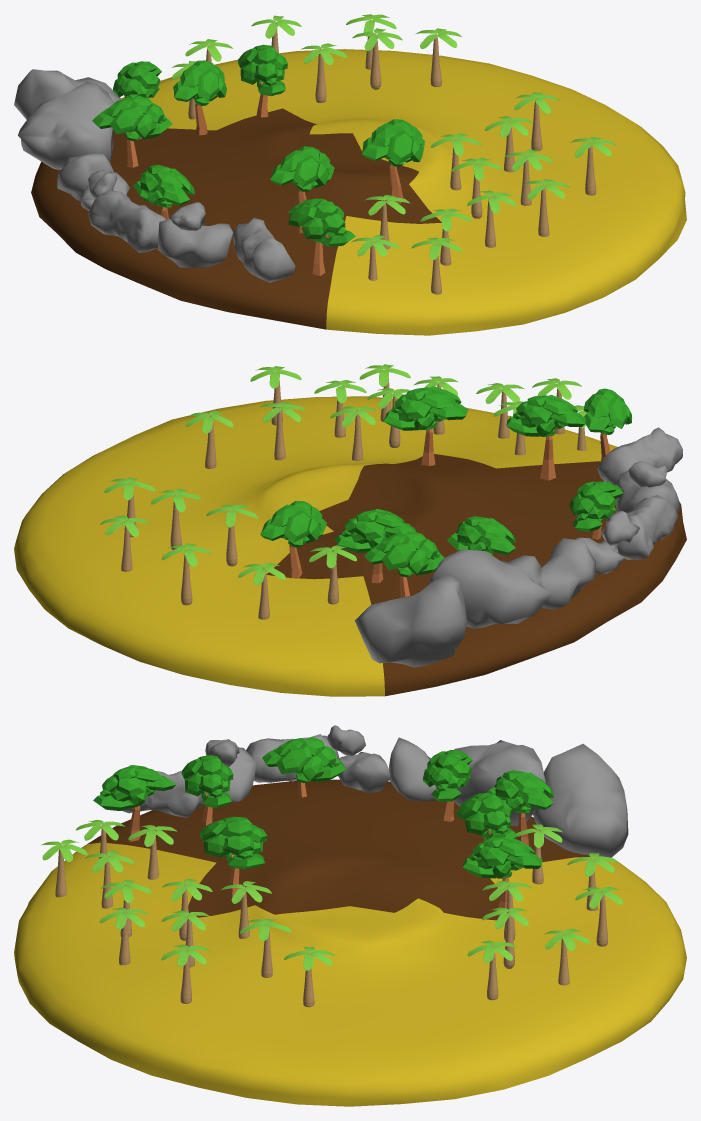
The model's file is IlhaFeiticeiro.fbx.
The picture shows the model from 3 angles, top to bottom: view 1: azimuth 30°, elevation 25°; view 2: azimuth 150°, elevation 25°; view 3: azimuth 270°, elevation 25°; orthographic projection. The views are drawn at different scales.
Visible parts, largest first — view 1: Continente, Pedra2, Icosphere, Pedra1, Icosphere.001, Sphere.007, Sphere.001, Sphere.000, Sphere.003, Sphere.006, Pedra1.002, Sphere.008 (+23 smaller); view 2: Continente, Pedra1.002, Pedra2, Sphere.001, Sphere.006, Pedra1.001, Sphere.002, Icosphere.001, Sphere.003, Icosphere, Sphere.008, Sphere.009 (+23 smaller); view 3: Continente, Pedra1.002, Pedra2, Sphere.001, Sphere.009, Sphere.000, Sphere.003, Sphere.006, Sphere.002, Sphere.007, Pedra1.001, Sphere.008 (+25 smaller).
Boxes of the visible parts, x1=… form: Continente: x1=31, y1=49, x2=686, y2=335; Pedra2: x1=18, y1=81, x2=113, y2=170; Icosphere: x1=88, y1=190, x2=165, y2=252; Pedra1: x1=157, y1=219, x2=232, y2=267; Icosphere.001: x1=232, y1=217, x2=295, y2=282; Sphere.007: x1=92, y1=96, x2=172, y2=167; Sphere.001: x1=361, y1=119, x2=424, y2=203; Sphere.000: x1=288, y1=198, x2=355, y2=275; Sphere.003: x1=238, y1=44, x2=287, y2=117; Sphere.006: x1=270, y1=146, x2=334, y2=233; Pedra1.002: x1=14, y1=69, x2=121, y2=119; Sphere.008: x1=173, y1=60, x2=226, y2=135; Continente: x1=14, y1=396, x2=686, y2=696; Pedra1.002: x1=355, y1=574, x2=466, y2=667; Pedra2: x1=429, y1=549, x2=550, y2=628; Sphere.001: x1=383, y1=386, x2=468, y2=465; Sphere.006: x1=506, y1=395, x2=585, y2=480; Pedra1.001: x1=541, y1=538, x2=595, y2=609; Sphere.002: x1=364, y1=531, x2=444, y2=597; Icosphere.001: x1=597, y1=427, x2=682, y2=485; Sphere.003: x1=260, y1=500, x2=326, y2=578; Icosphere: x1=617, y1=495, x2=677, y2=559; Sphere.008: x1=334, y1=509, x2=416, y2=583; Sphere.009: x1=569, y1=481, x2=623, y2=539; Continente: x1=14, y1=779, x2=686, y2=1106; Pedra1.002: x1=532, y1=743, x2=628, y2=857; Pedra2: x1=454, y1=740, x2=545, y2=825; Sphere.001: x1=200, y1=816, x2=267, y2=900; Sphere.009: x1=262, y1=737, x2=346, y2=797; Sphere.000: x1=93, y1=765, x2=175, y2=841; Sphere.003: x1=462, y1=836, x2=542, y2=908; Sphere.006: x1=181, y1=755, x2=233, y2=842; Sphere.002: x1=486, y1=770, x2=554, y2=845; Sphere.007: x1=422, y1=750, x2=472, y2=821; Pedra1.001: x1=389, y1=737, x2=437, y2=801; Sphere.008: x1=456, y1=793, x2=517, y2=842.
Bounding box in the file's own units: 12808 × 2995 × 12757.
